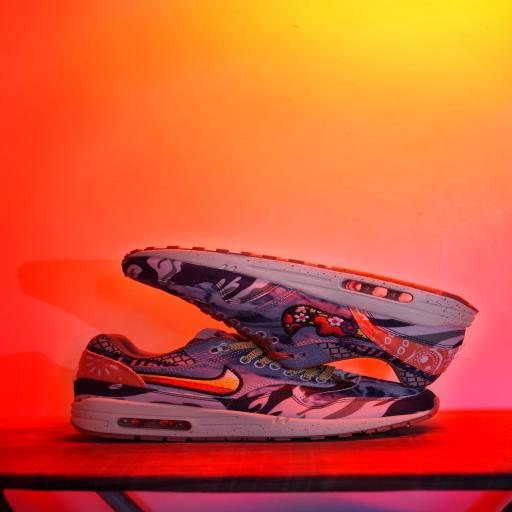shoe: (123, 247, 477, 386), (72, 329, 438, 440)
